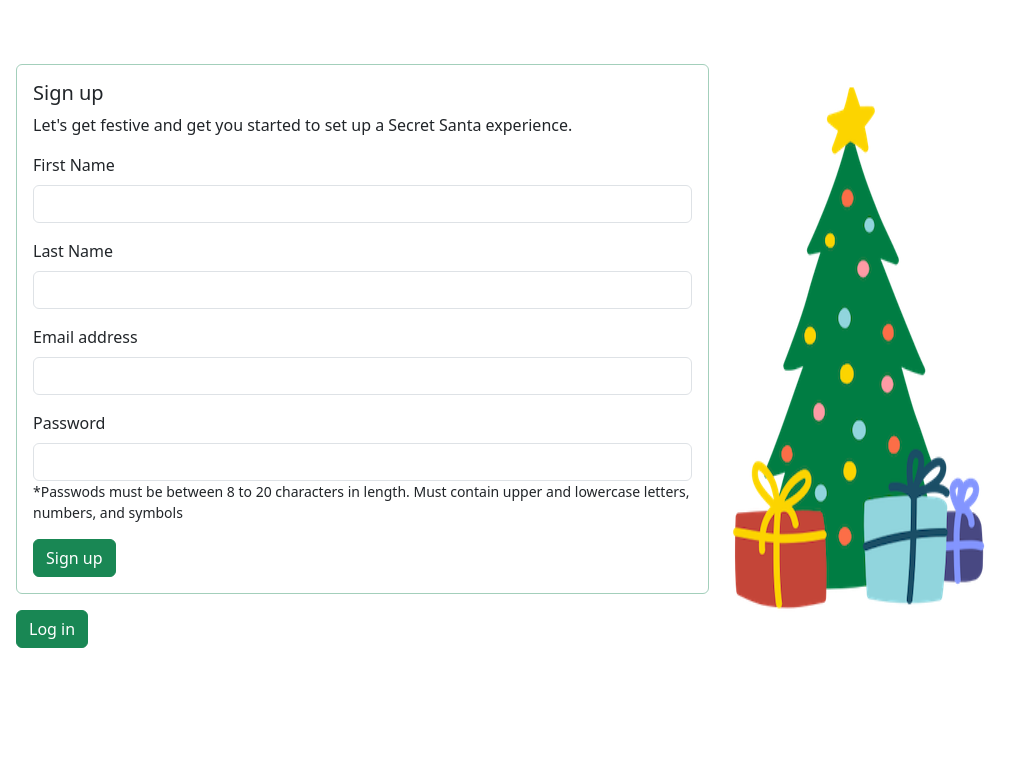
Test: Signup.tsx form validation › Password field must be at least 8 characters long
Type "John" into the field below "First Name". click: coordinates (362, 204)
box: [33, 185, 692, 223]
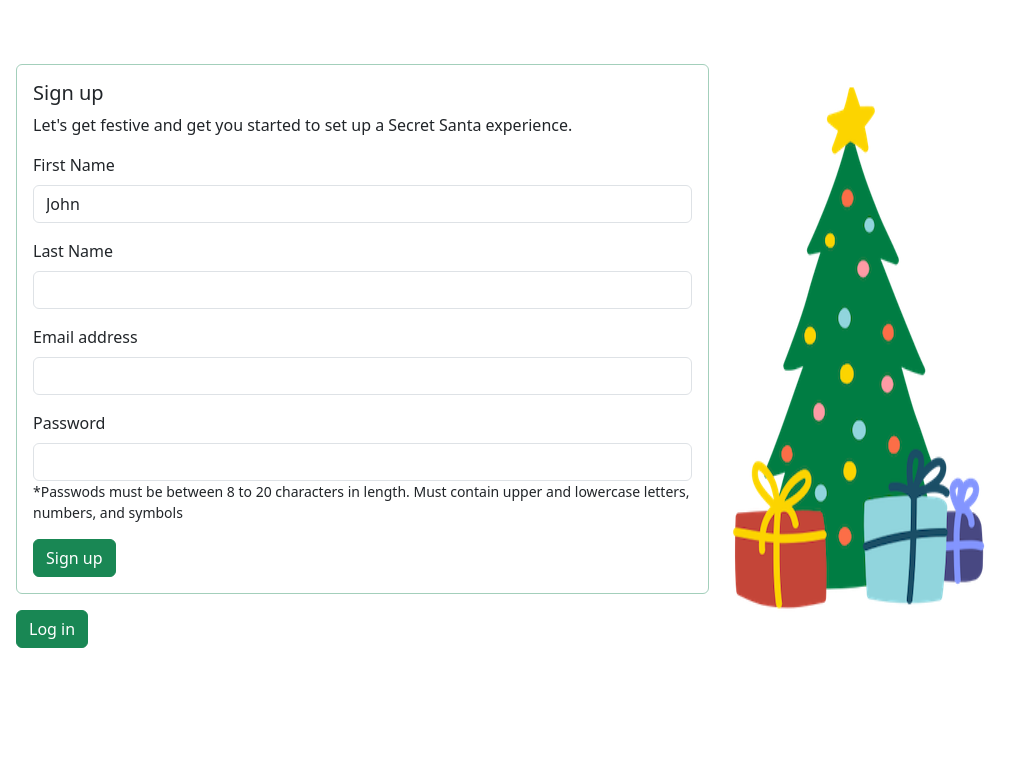
Type "Doe" into the field below "Last Name". click: coordinates (362, 290)
box: [33, 271, 692, 309]
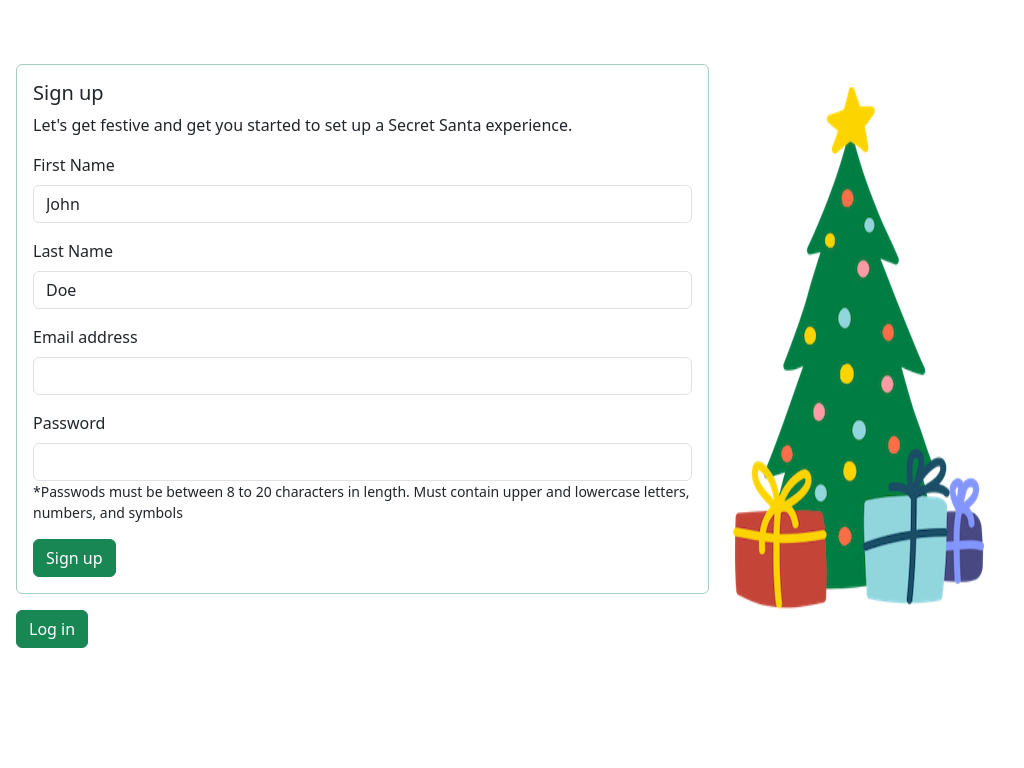
Type "test@email.com" into the field below "Email address". click: coordinates (362, 376)
box: [33, 357, 692, 395]
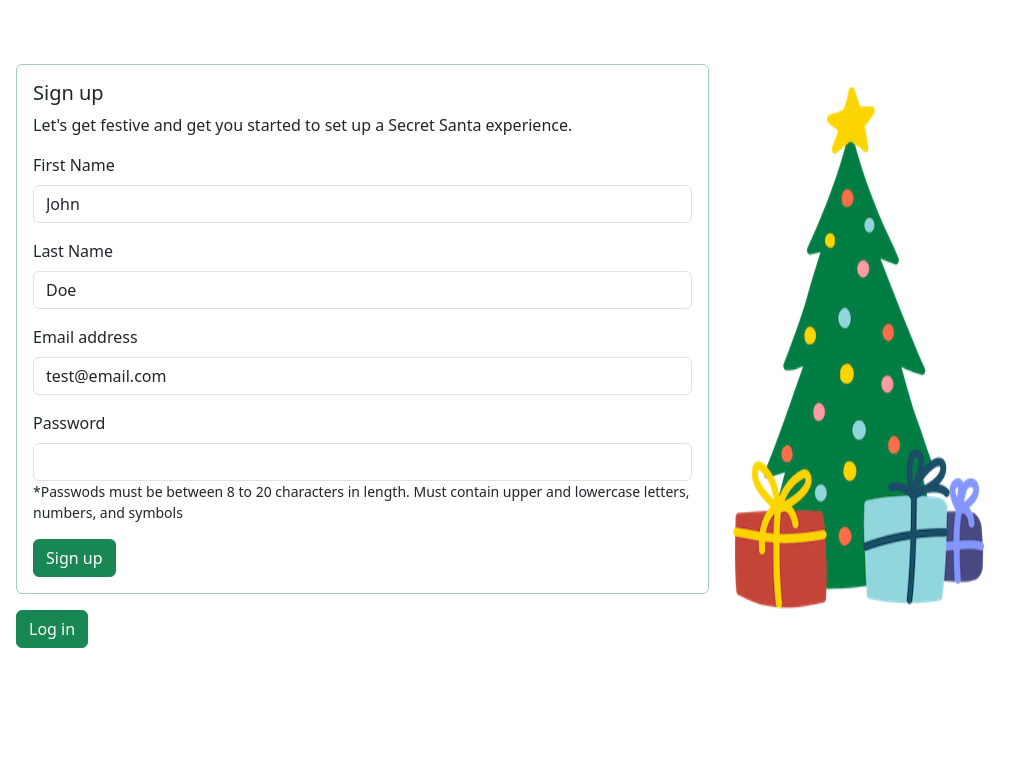
Click the button "Sign up". click: coordinates (74, 558)
box: [33, 539, 116, 577]
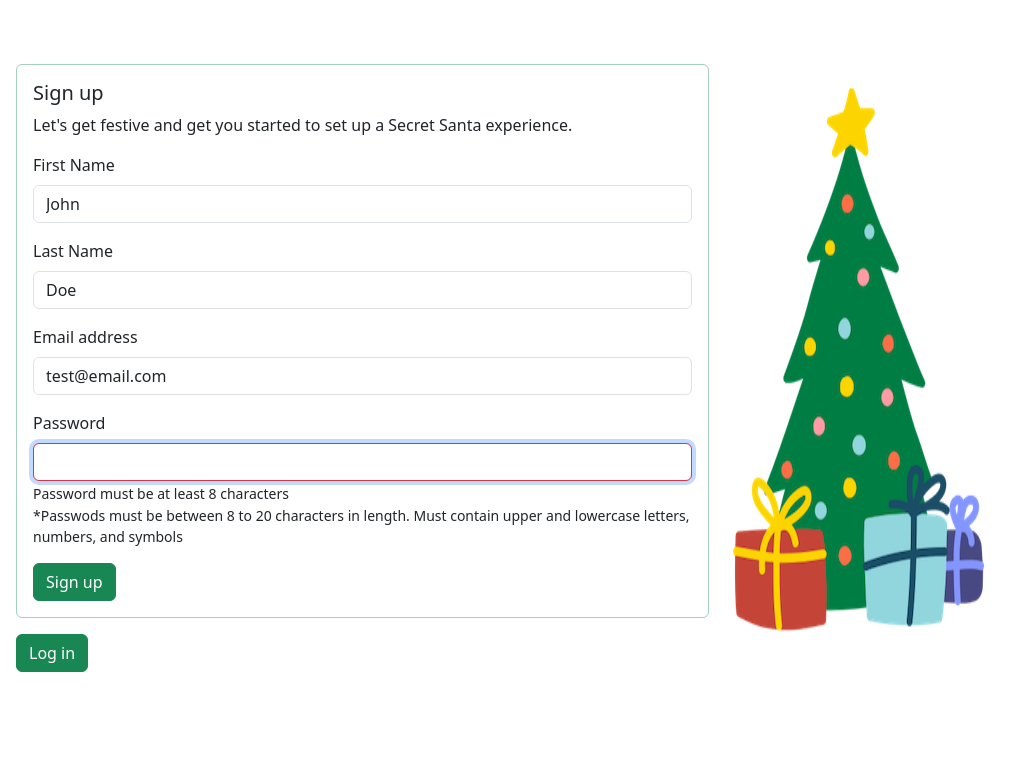
Check: the text "Password must be at least 8 characters" is shown, box [33, 484, 289, 503]
